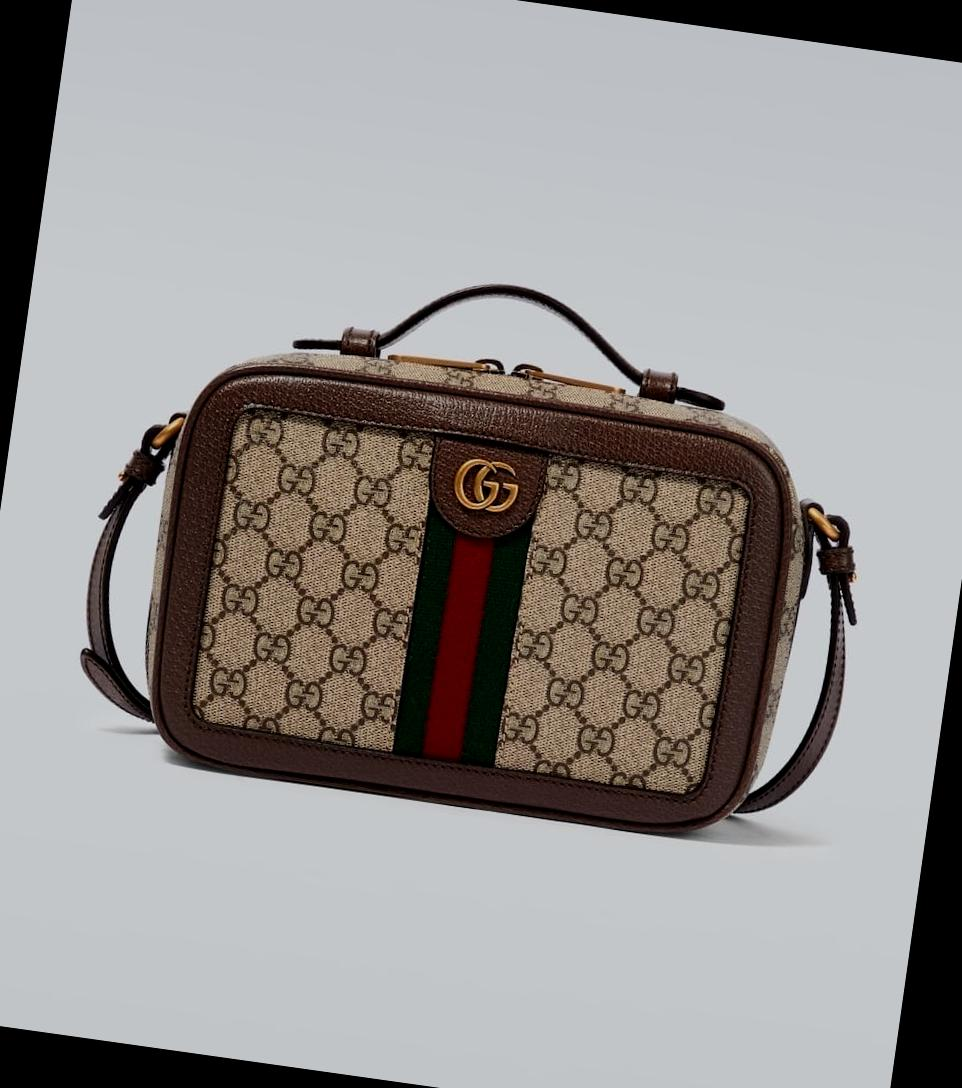GUCCI: (450, 454, 522, 514)
